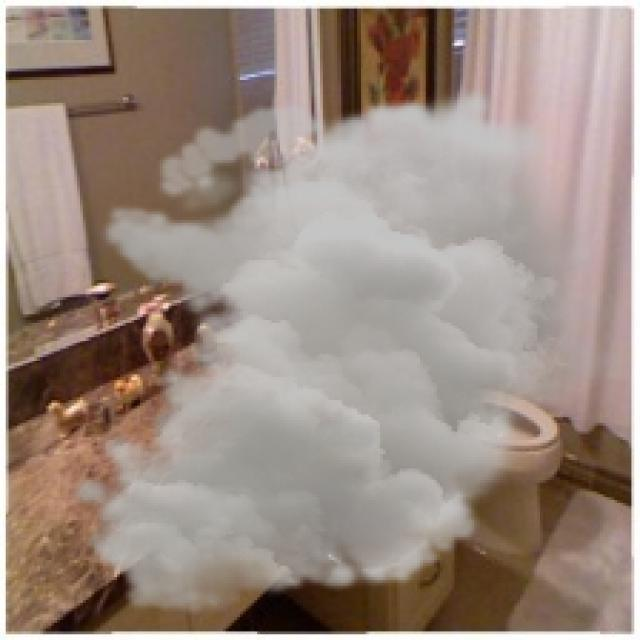Smoke: (66, 85, 623, 618)
